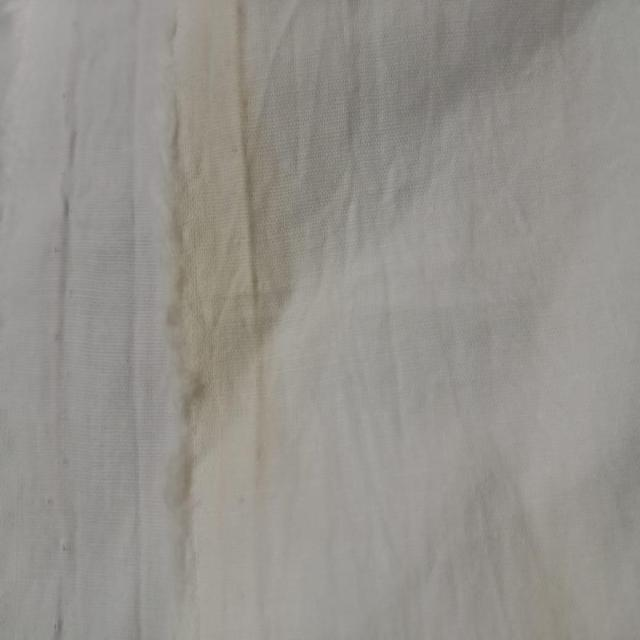stain: (147, 10, 282, 503)
